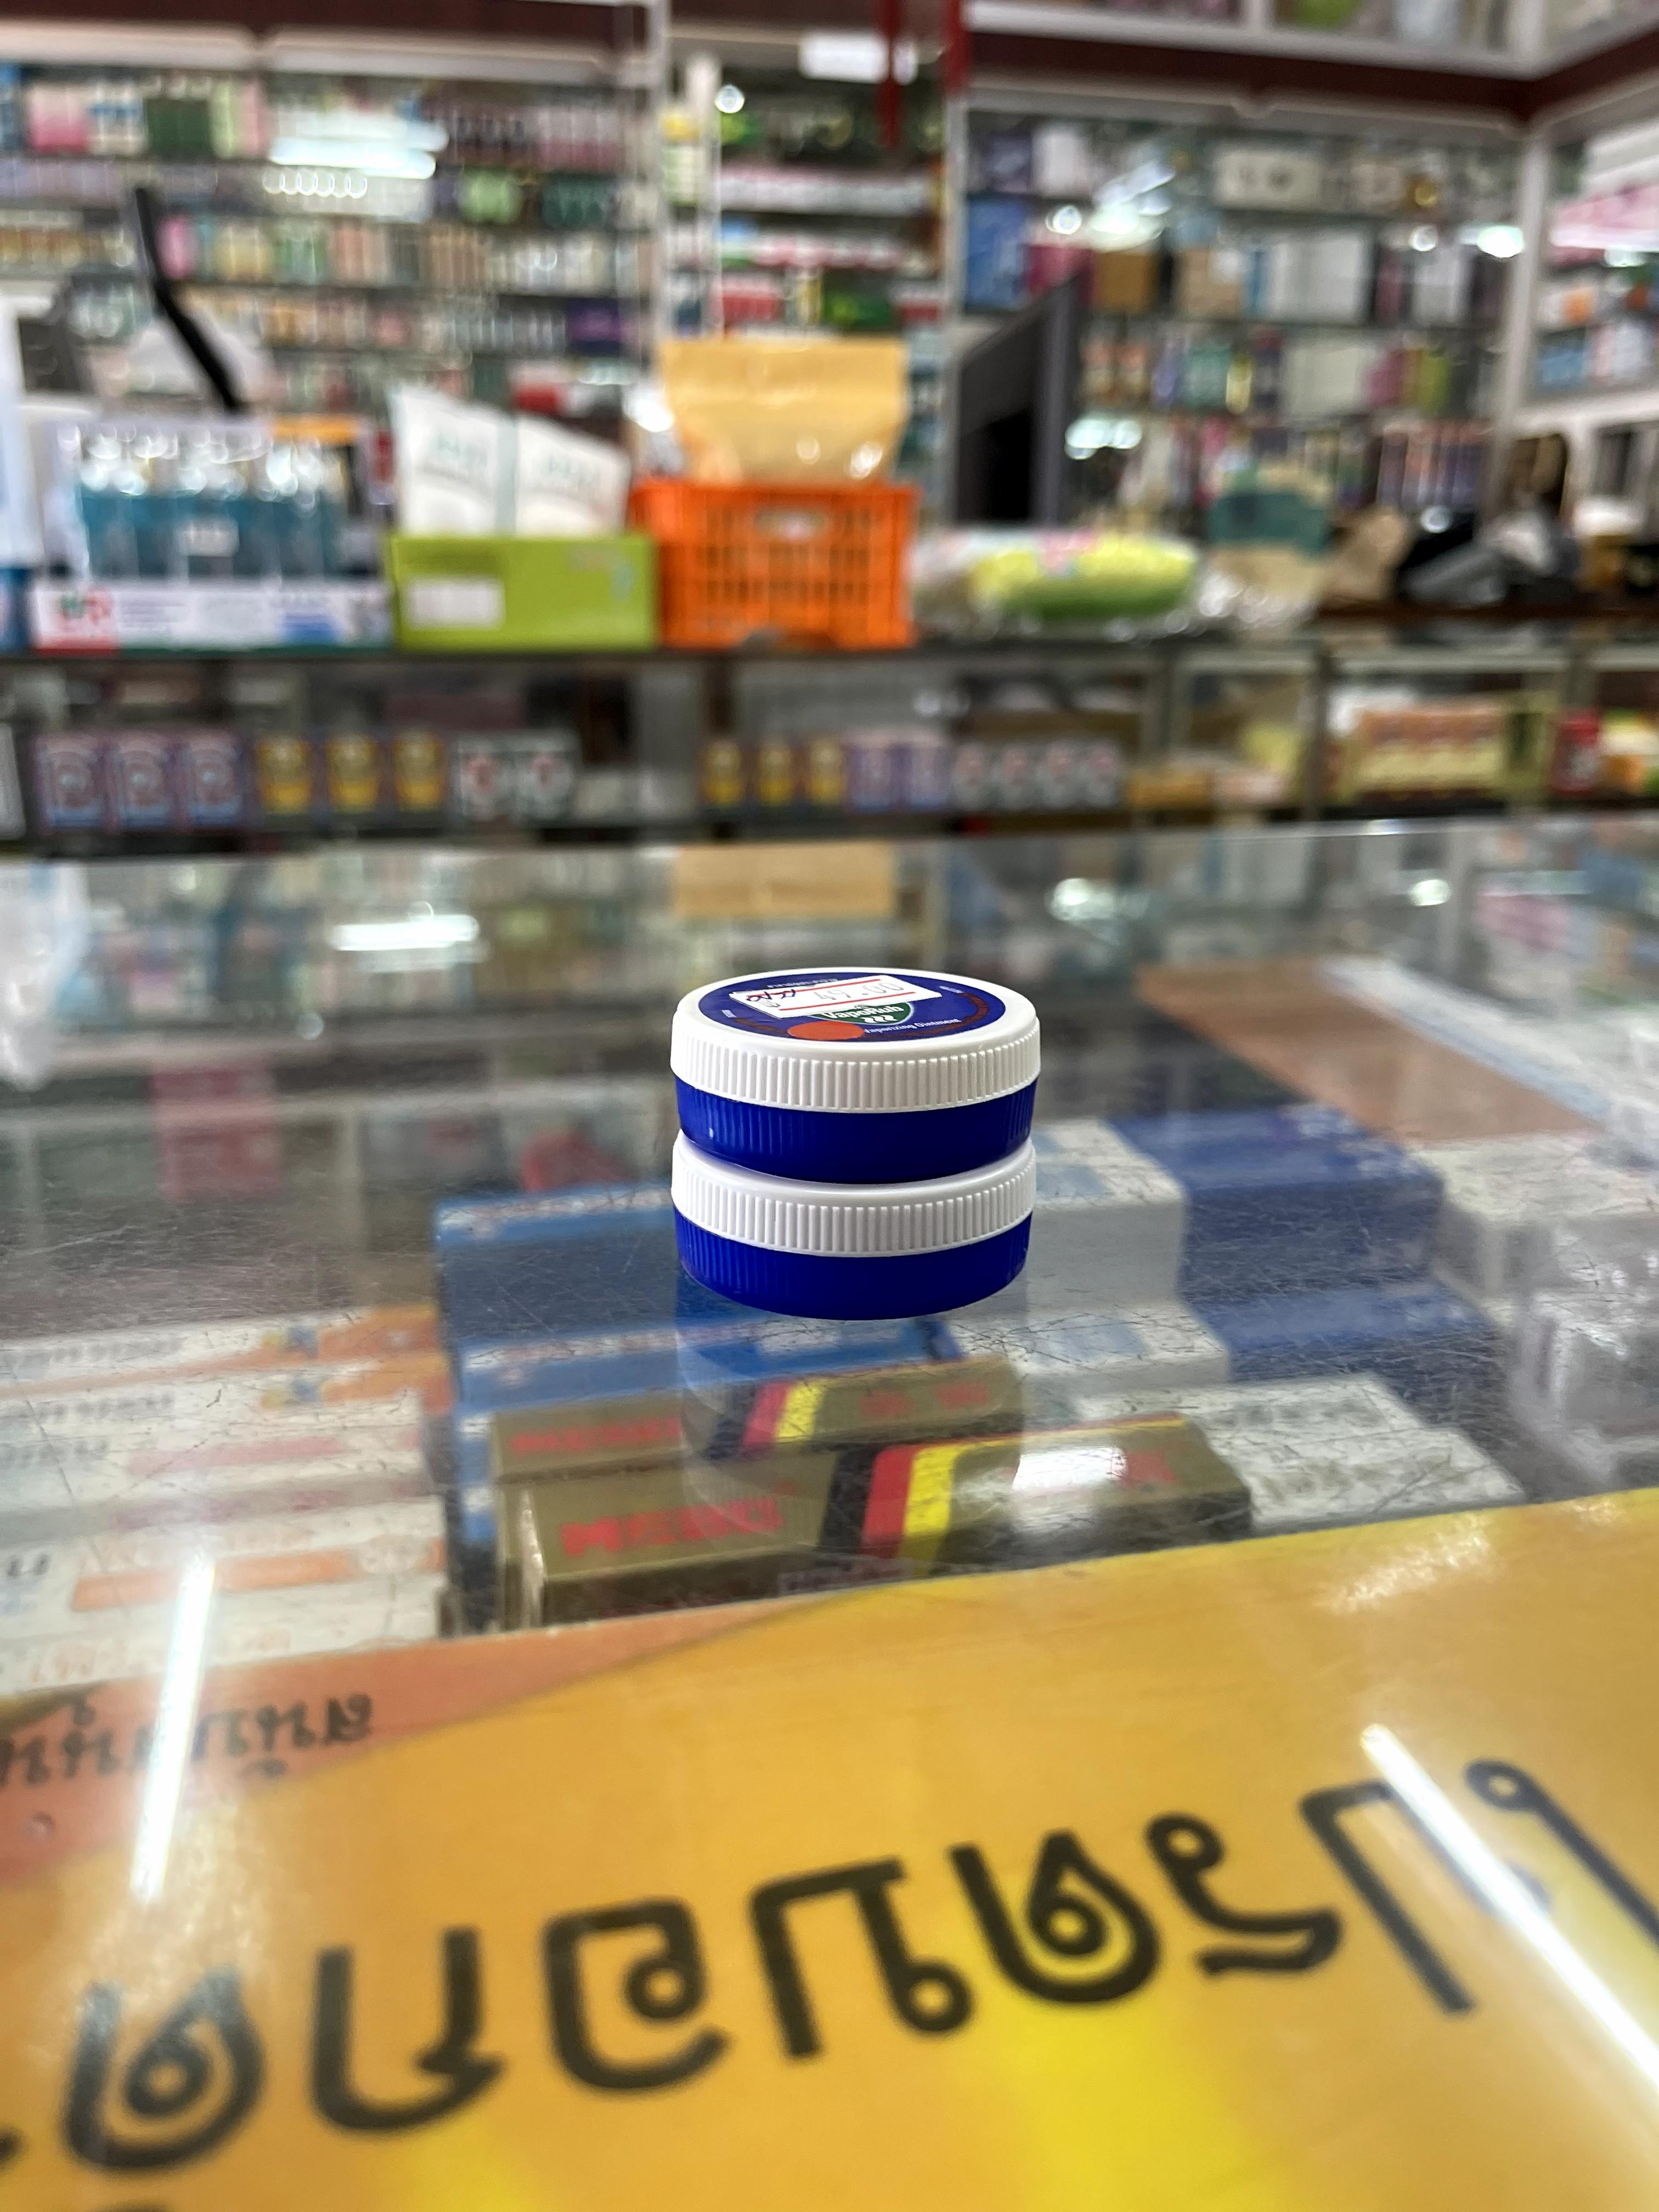VapoRub_Small: (673, 974, 1047, 1177), (674, 1136, 1037, 1308)
